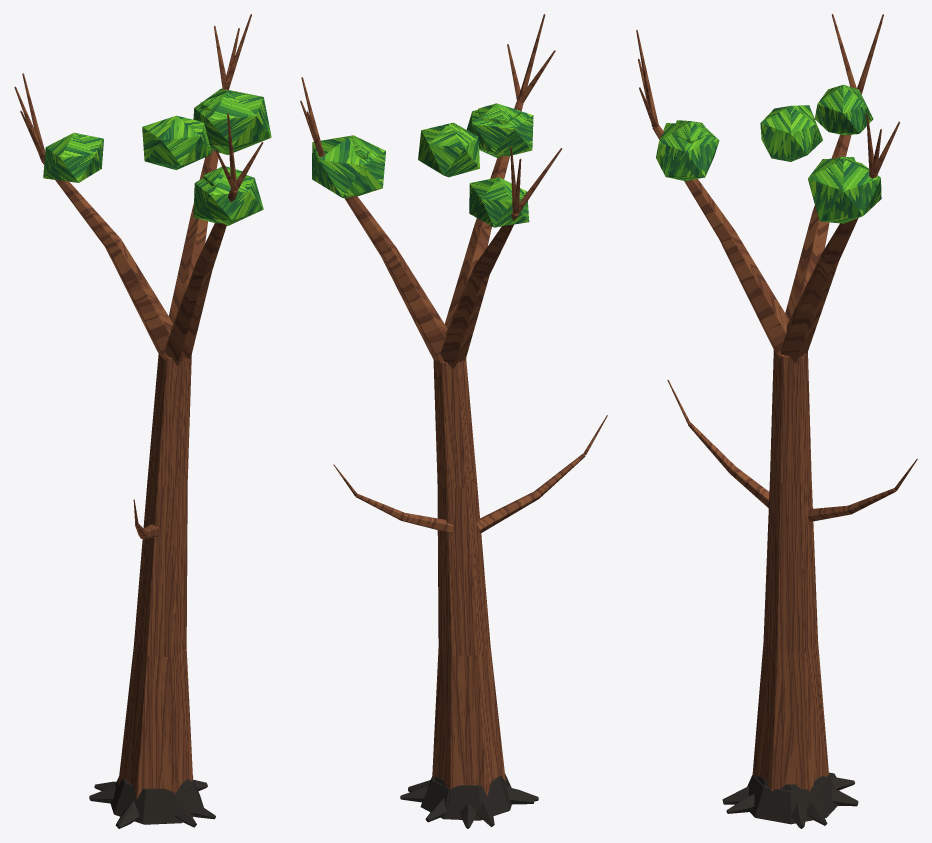
The model's file is mdl_tree_medium_a_tex_v1.glb.
The picture shows the model from 3 angles, left to right: view 1: azimuth 30°, elevation 25°; view 2: azimuth 150°, elevation 25°; view 3: azimuth 270°, elevation 25°; orthographic projection. The views are drawn at different scales.
Visible parts, largest first — view 1: GEO_Tree_Medium_A; view 2: GEO_Tree_Medium_A; view 3: GEO_Tree_Medium_A.
Boxes of the visible parts, <box> form: GEO_Tree_Medium_A: <box>14,14,271,828</box>; GEO_Tree_Medium_A: <box>300,14,607,828</box>; GEO_Tree_Medium_A: <box>636,14,917,828</box>.
Bounding box in the file's own units: 1.97 × 5.69 × 1.88.
5 materials, 4 textured.
